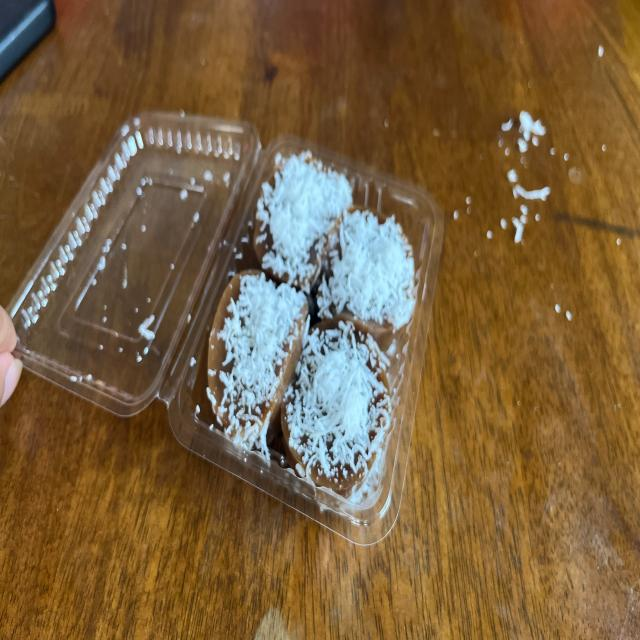Kuih lompang: (281, 320, 390, 496), (208, 271, 309, 458), (316, 207, 415, 351), (254, 151, 352, 293)
